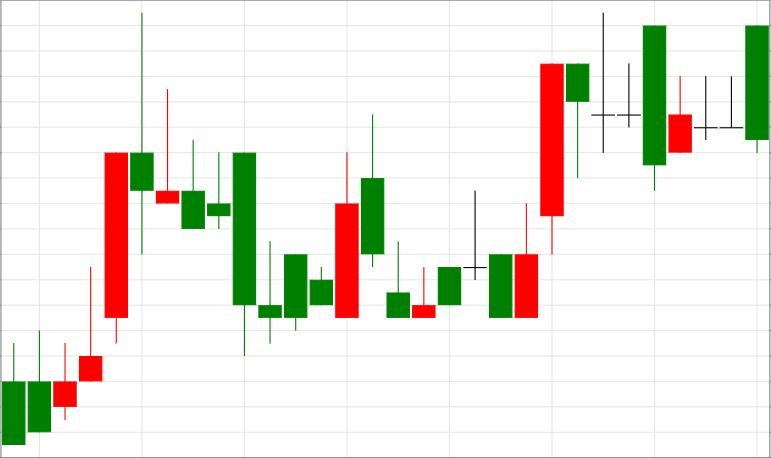bullish_engulfing_rise: (361, 114, 537, 318)
hanging_man_fall: (489, 63, 589, 318)
